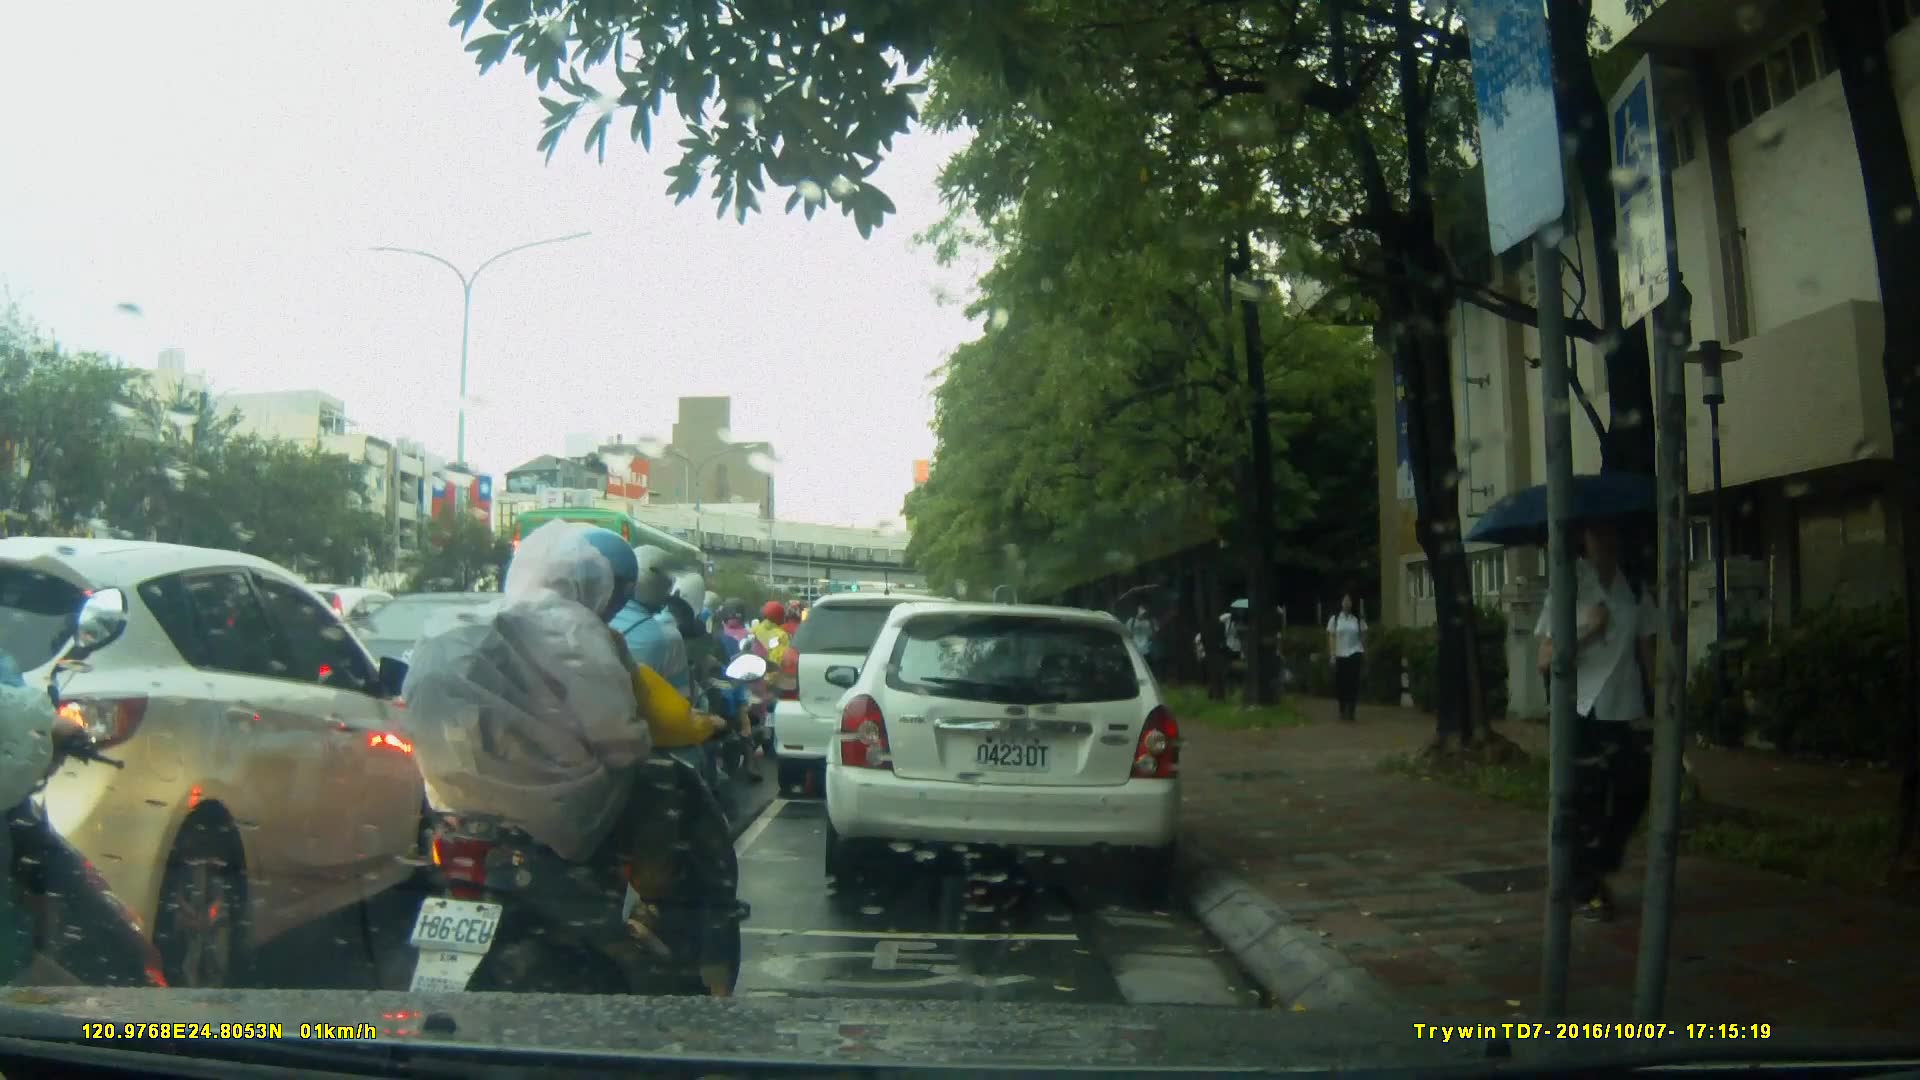pedestrian: (1540, 514, 1695, 923), (1316, 590, 1373, 725), (1121, 595, 1158, 702)
rider: (393, 514, 753, 1073), (1, 585, 177, 1080), (541, 546, 732, 887), (608, 569, 744, 864), (704, 601, 780, 765), (749, 603, 806, 744)
vehicle: (1, 536, 442, 988), (822, 604, 1186, 881), (774, 595, 995, 802), (519, 507, 729, 668)
